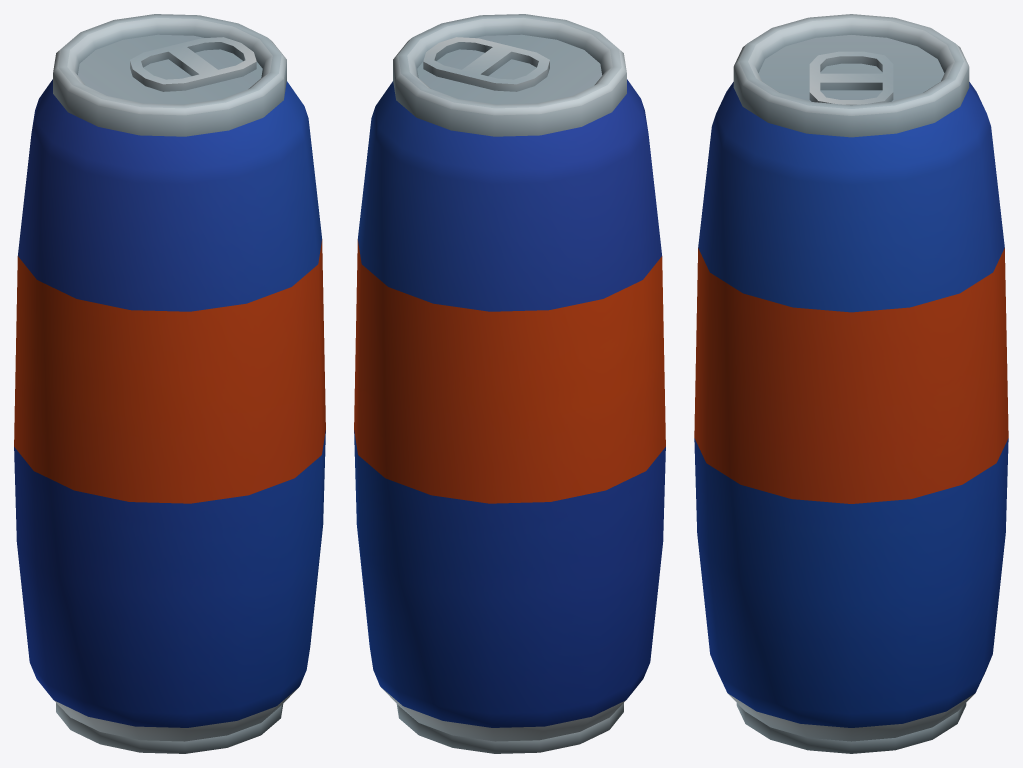
Rendered from can_002.fbx.
The picture shows the model from 3 angles, left to right: view 1: azimuth 30°, elevation 25°; view 2: azimuth 150°, elevation 25°; view 3: azimuth 270°, elevation 25°; orthographic projection.
Parts seen in each view (by area): view 1: can_002; view 2: can_002; view 3: can_002.
Boxes of the visible parts, bbox=[...] form: can_002: bbox=[14, 14, 325, 753]; can_002: bbox=[354, 14, 665, 753]; can_002: bbox=[694, 14, 1008, 753].
Size of the model in its own units: 8.22 by 8.22 by 18.71.
